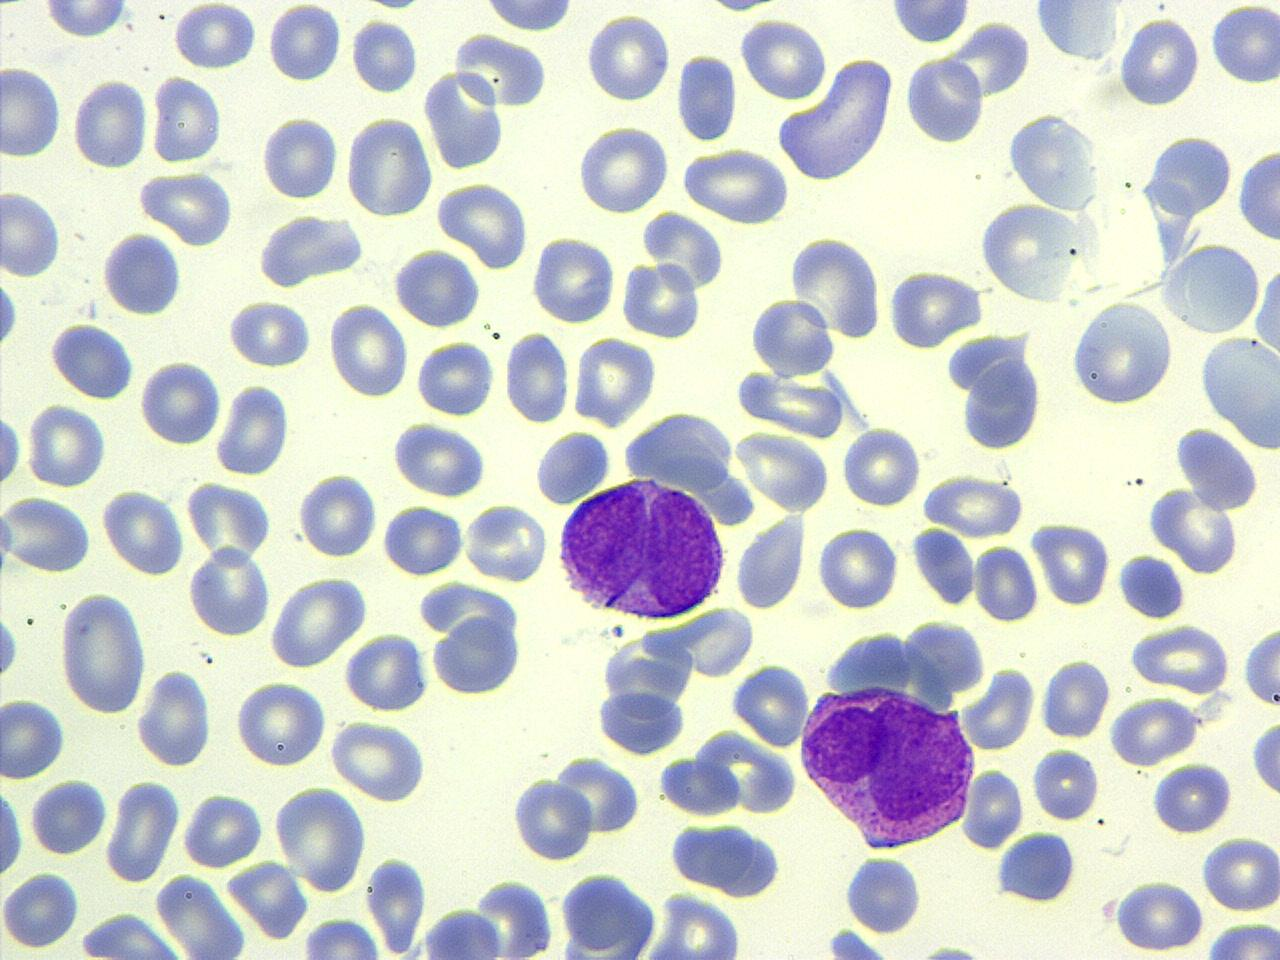Platelets: (1031, 2, 1127, 63), (824, 925, 891, 960), (0, 610, 20, 682), (0, 279, 20, 350), (918, 941, 980, 960), (362, 0, 419, 13), (609, 622, 625, 642)
RBC: (1069, 296, 1177, 407), (58, 587, 149, 714), (976, 200, 1086, 303), (788, 232, 884, 339), (1198, 327, 1280, 452), (274, 784, 368, 892), (1159, 239, 1261, 338), (1006, 109, 1102, 214), (342, 114, 434, 218), (269, 572, 367, 670), (422, 68, 508, 171), (328, 717, 431, 803), (574, 121, 670, 214), (680, 145, 792, 224), (434, 179, 530, 270), (732, 427, 833, 512), (234, 678, 328, 769), (1115, 12, 1201, 110), (584, 10, 672, 105), (884, 265, 984, 349), (1173, 421, 1261, 515), (1142, 132, 1236, 220), (186, 544, 272, 638), (328, 301, 408, 400), (738, 14, 829, 102), (530, 232, 618, 324), (572, 333, 658, 427), (449, 32, 550, 111), (184, 476, 273, 565), (136, 667, 212, 769), (390, 419, 488, 498), (638, 211, 730, 294), (903, 51, 983, 147), (105, 778, 177, 883), (101, 487, 185, 577), (1127, 622, 1233, 694), (100, 229, 184, 318), (46, 320, 137, 402), (139, 169, 237, 246), (1, 493, 94, 574), (214, 381, 291, 477), (1111, 876, 1205, 954), (138, 358, 222, 446), (816, 524, 900, 612), (25, 400, 108, 489), (731, 659, 811, 750), (72, 76, 147, 172), (391, 247, 482, 328), (296, 470, 377, 561), (512, 774, 594, 863), (344, 630, 429, 714), (840, 423, 922, 509), (959, 663, 1037, 754), (748, 296, 836, 377), (462, 501, 547, 583), (149, 73, 224, 166), (921, 473, 1024, 541), (620, 258, 702, 342), (1033, 520, 1111, 608), (1108, 694, 1202, 765), (504, 327, 572, 426), (843, 852, 923, 935), (260, 113, 336, 201), (364, 853, 429, 954), (594, 688, 688, 757), (225, 296, 313, 370), (558, 754, 640, 834), (1200, 832, 1280, 914), (1, 868, 81, 950), (414, 337, 494, 418), (181, 790, 261, 870), (530, 426, 610, 504), (30, 776, 109, 856), (380, 502, 462, 578), (1151, 760, 1233, 834), (1, 64, 62, 160), (268, 3, 341, 85), (172, 0, 256, 71), (1209, 2, 1279, 87), (1029, 1, 1125, 62), (675, 52, 738, 144), (972, 541, 1039, 625), (73, 911, 190, 959), (1039, 657, 1109, 739), (0, 187, 61, 278), (1, 696, 66, 782), (959, 764, 1024, 850), (350, 16, 418, 96), (1031, 744, 1101, 822), (1173, 496, 1239, 578), (912, 526, 976, 608), (1114, 551, 1186, 618), (1236, 141, 1280, 246), (300, 916, 382, 960), (478, 0, 577, 35), (1240, 622, 1280, 708), (40, 0, 129, 38), (1200, 920, 1280, 958), (0, 782, 25, 884), (1249, 718, 1280, 799), (0, 406, 24, 492)
WBC: (795, 683, 981, 853), (552, 474, 728, 623), (774, 54, 898, 184), (420, 574, 526, 698), (1069, 294, 1177, 408), (951, 337, 1046, 455), (61, 591, 148, 716), (1161, 240, 1267, 334), (1200, 325, 1278, 451), (1006, 110, 1102, 212), (666, 819, 786, 899), (622, 410, 740, 492), (558, 868, 658, 958), (254, 210, 367, 288), (422, 66, 505, 172), (188, 547, 277, 639), (1174, 423, 1262, 514), (450, 31, 550, 110), (733, 509, 810, 611), (393, 244, 486, 329), (100, 226, 183, 320), (47, 319, 138, 402), (596, 685, 692, 755), (532, 424, 611, 507), (994, 828, 1078, 905), (911, 524, 978, 609), (1115, 550, 1187, 620), (1234, 140, 1280, 246), (886, 0, 973, 47), (1240, 620, 1280, 710), (476, 0, 578, 32), (40, 0, 130, 36), (1249, 717, 1279, 800)
